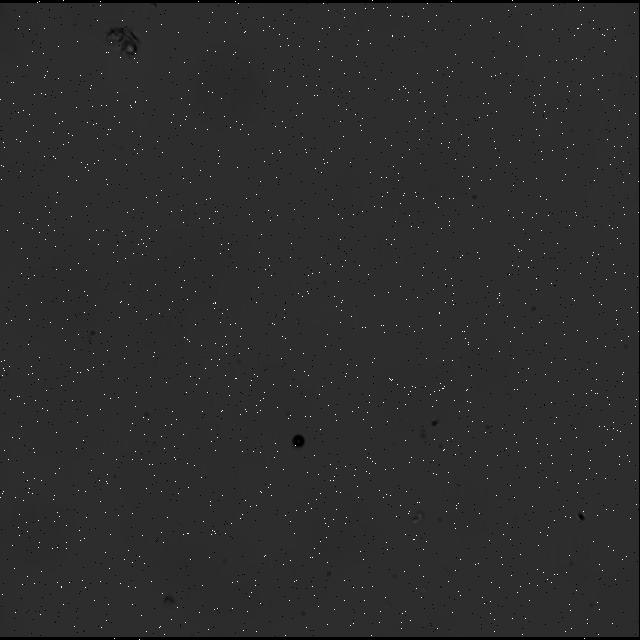microbeads: (291, 432, 305, 450)
